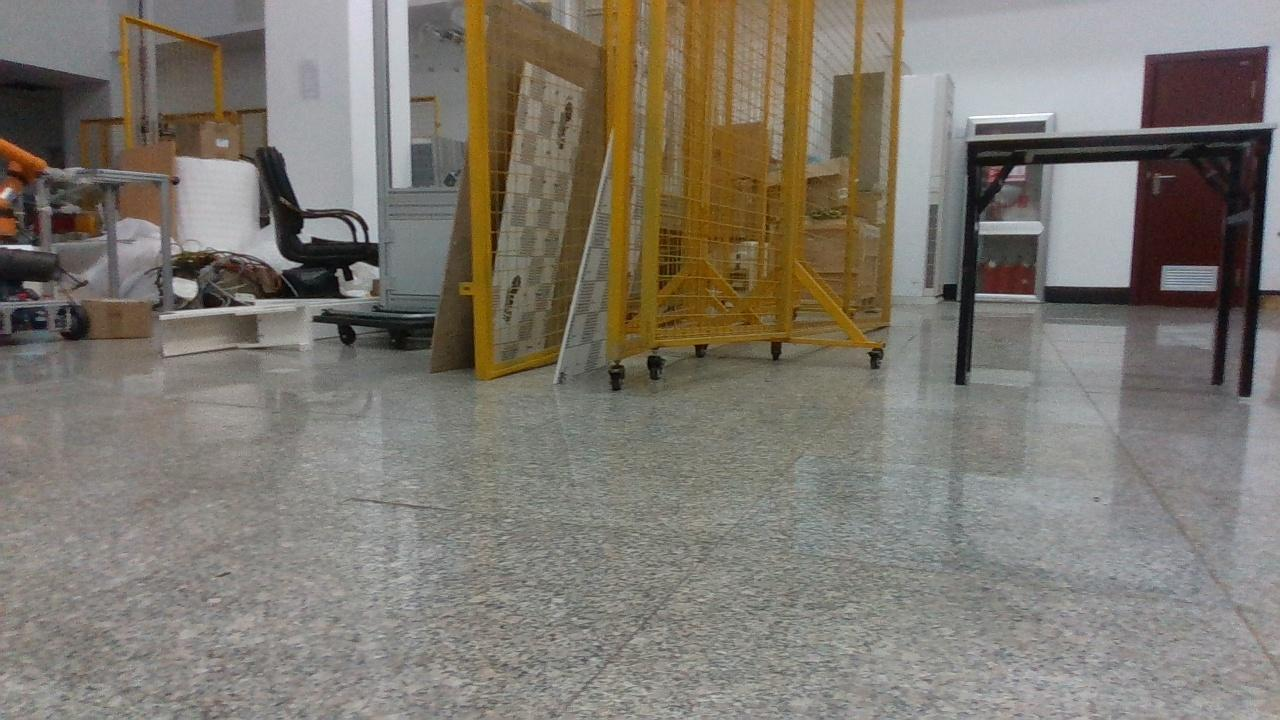table: (955, 121, 1278, 396)
